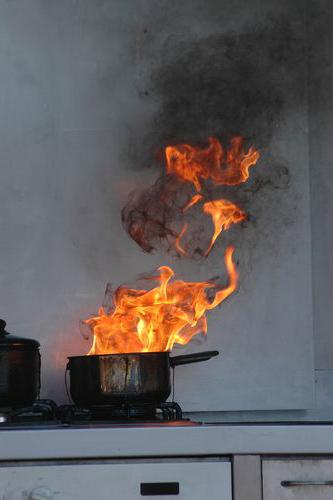fire: (91, 258, 244, 368), (161, 135, 266, 242)
